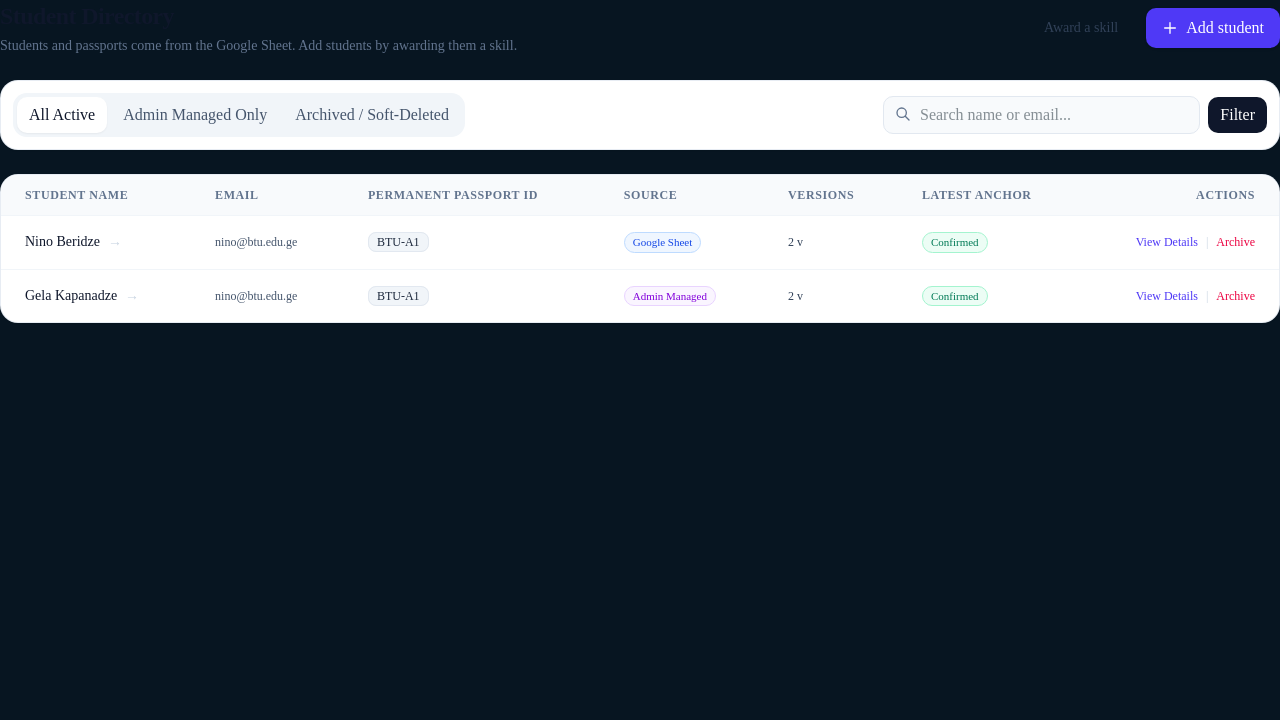
Scenario: student directory › archives after the admin confirms, shows a toast and reloads
Expected: the link "Nino Beridze →" is shown, 25,234 -> 122,249
What coordinates should you click on to do the following:
click the button "Archive" in the row of "Nino Beridze"
I would click on:
 (1236, 242)
Its box is 1216,234 -> 1255,250.
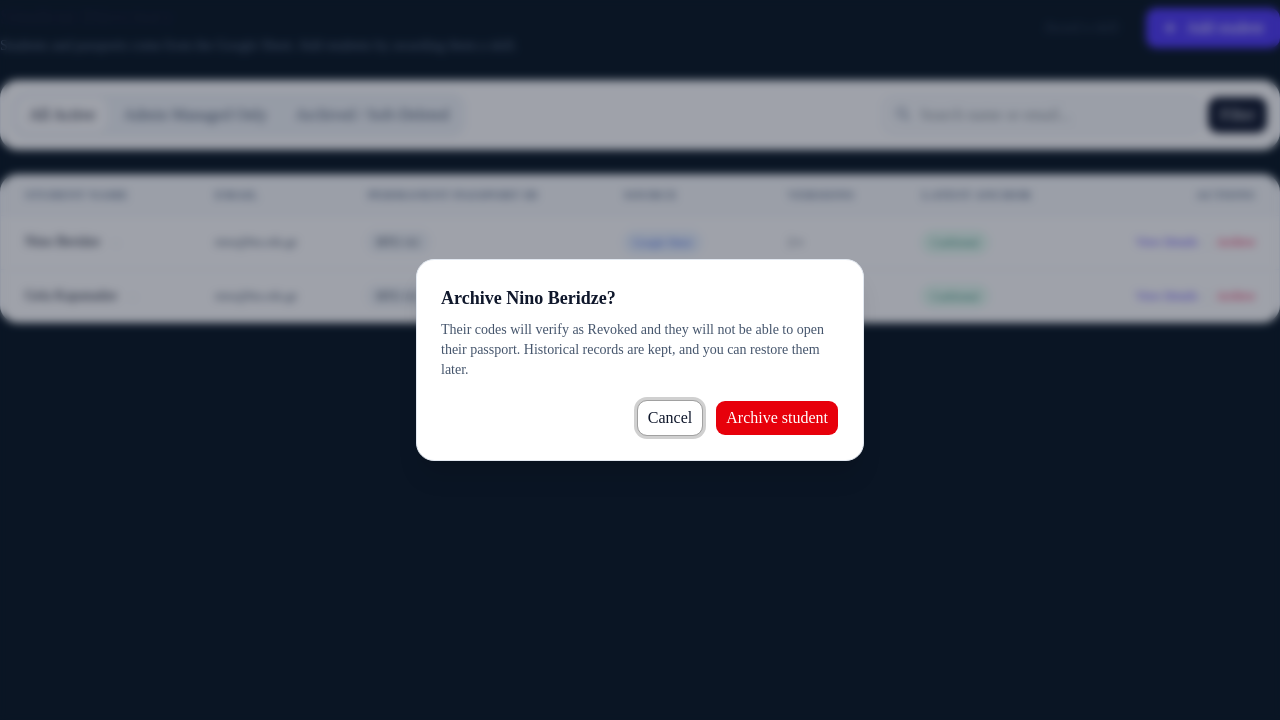
What coordinates should you click on to do the following:
click the button "Archive student"
I would click on:
 (777, 418)
Its box is 715,400 -> 839,436.
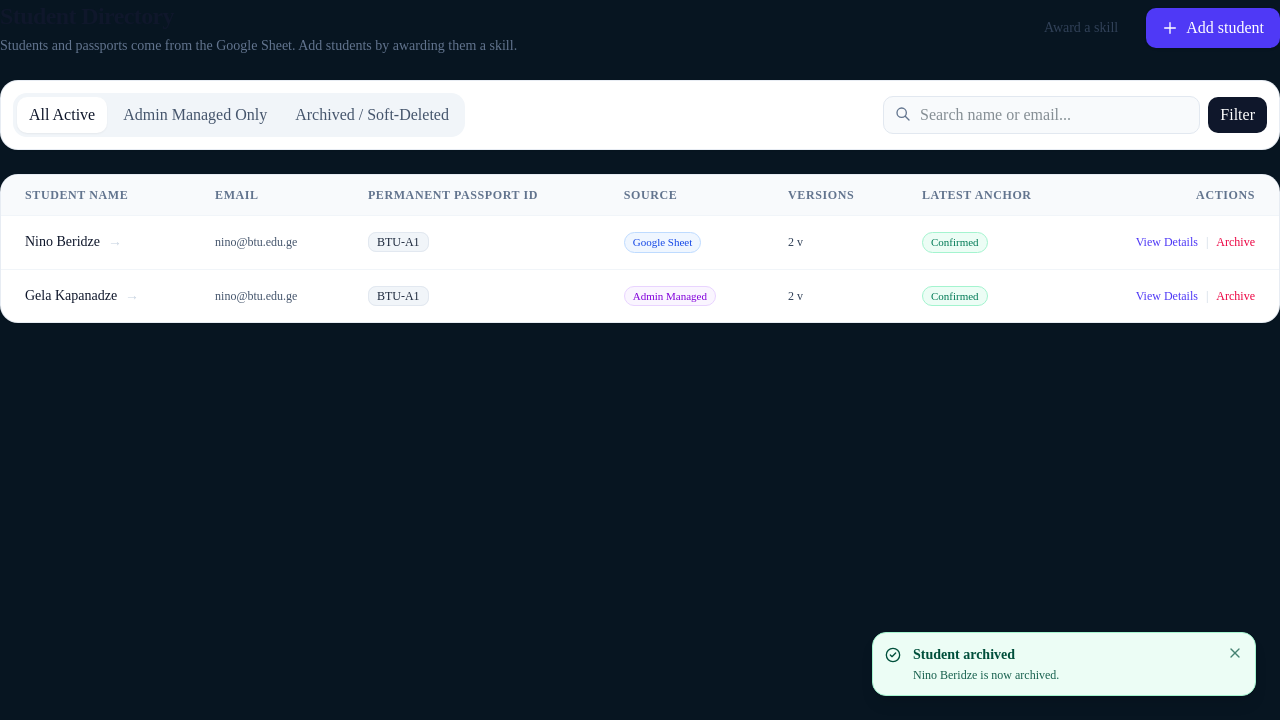
Expected: the heading "Student archived" is shown, 913,647 -> 1015,662
